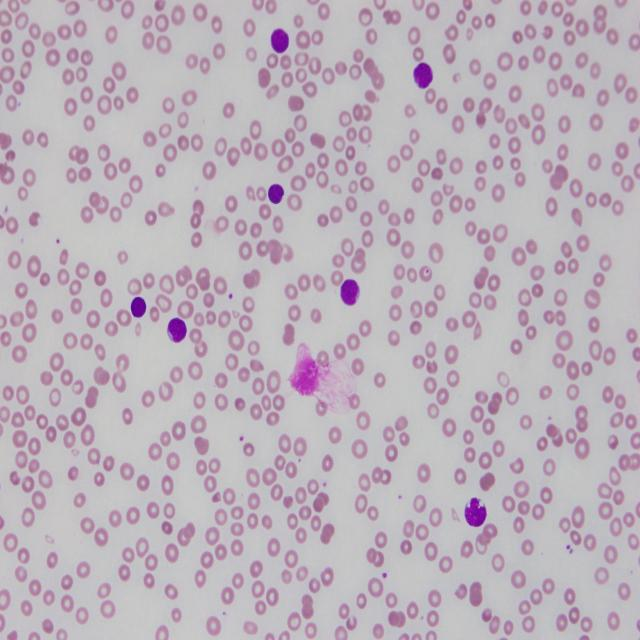cell: (340, 280, 360, 305), (168, 318, 186, 343), (271, 28, 289, 53), (414, 63, 432, 88), (268, 183, 284, 203), (131, 297, 146, 318)
